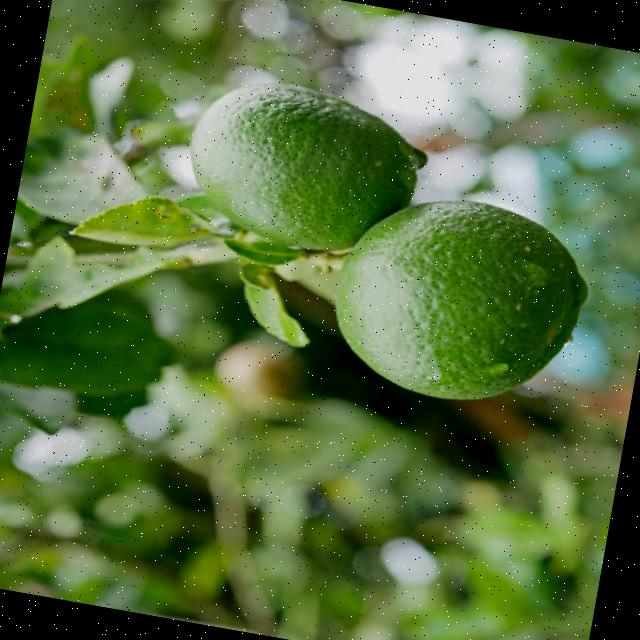Unripe: (309, 176, 597, 420), (176, 72, 424, 268)
